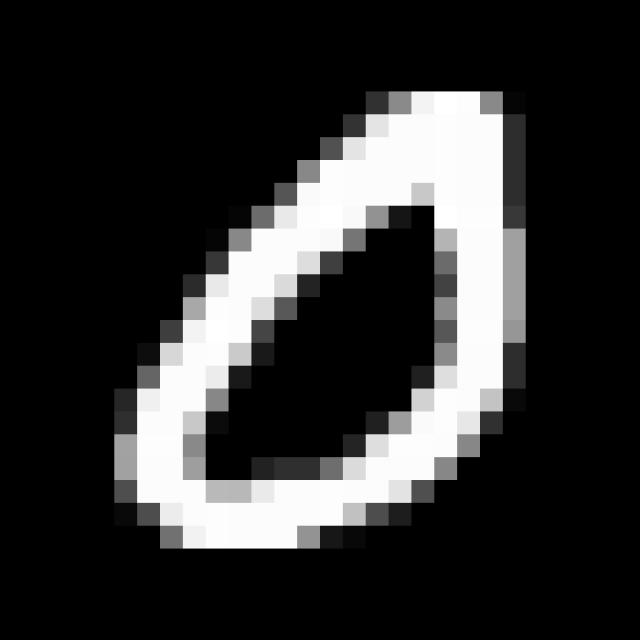zero -0-: (103, 75, 545, 565)
